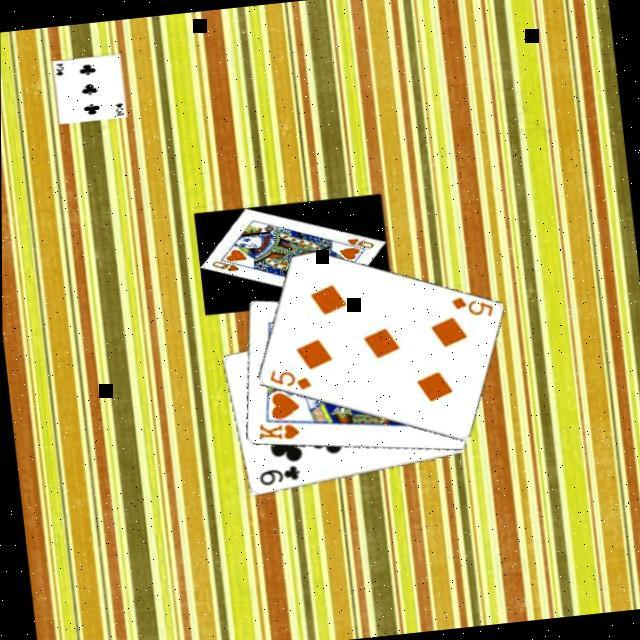5D: (263, 361, 312, 395), (446, 289, 495, 323)
9C: (253, 461, 301, 489)
KH: (253, 416, 301, 445)
